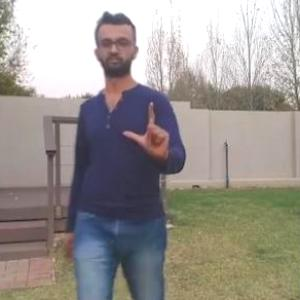land_hand: (120, 94, 177, 164)
